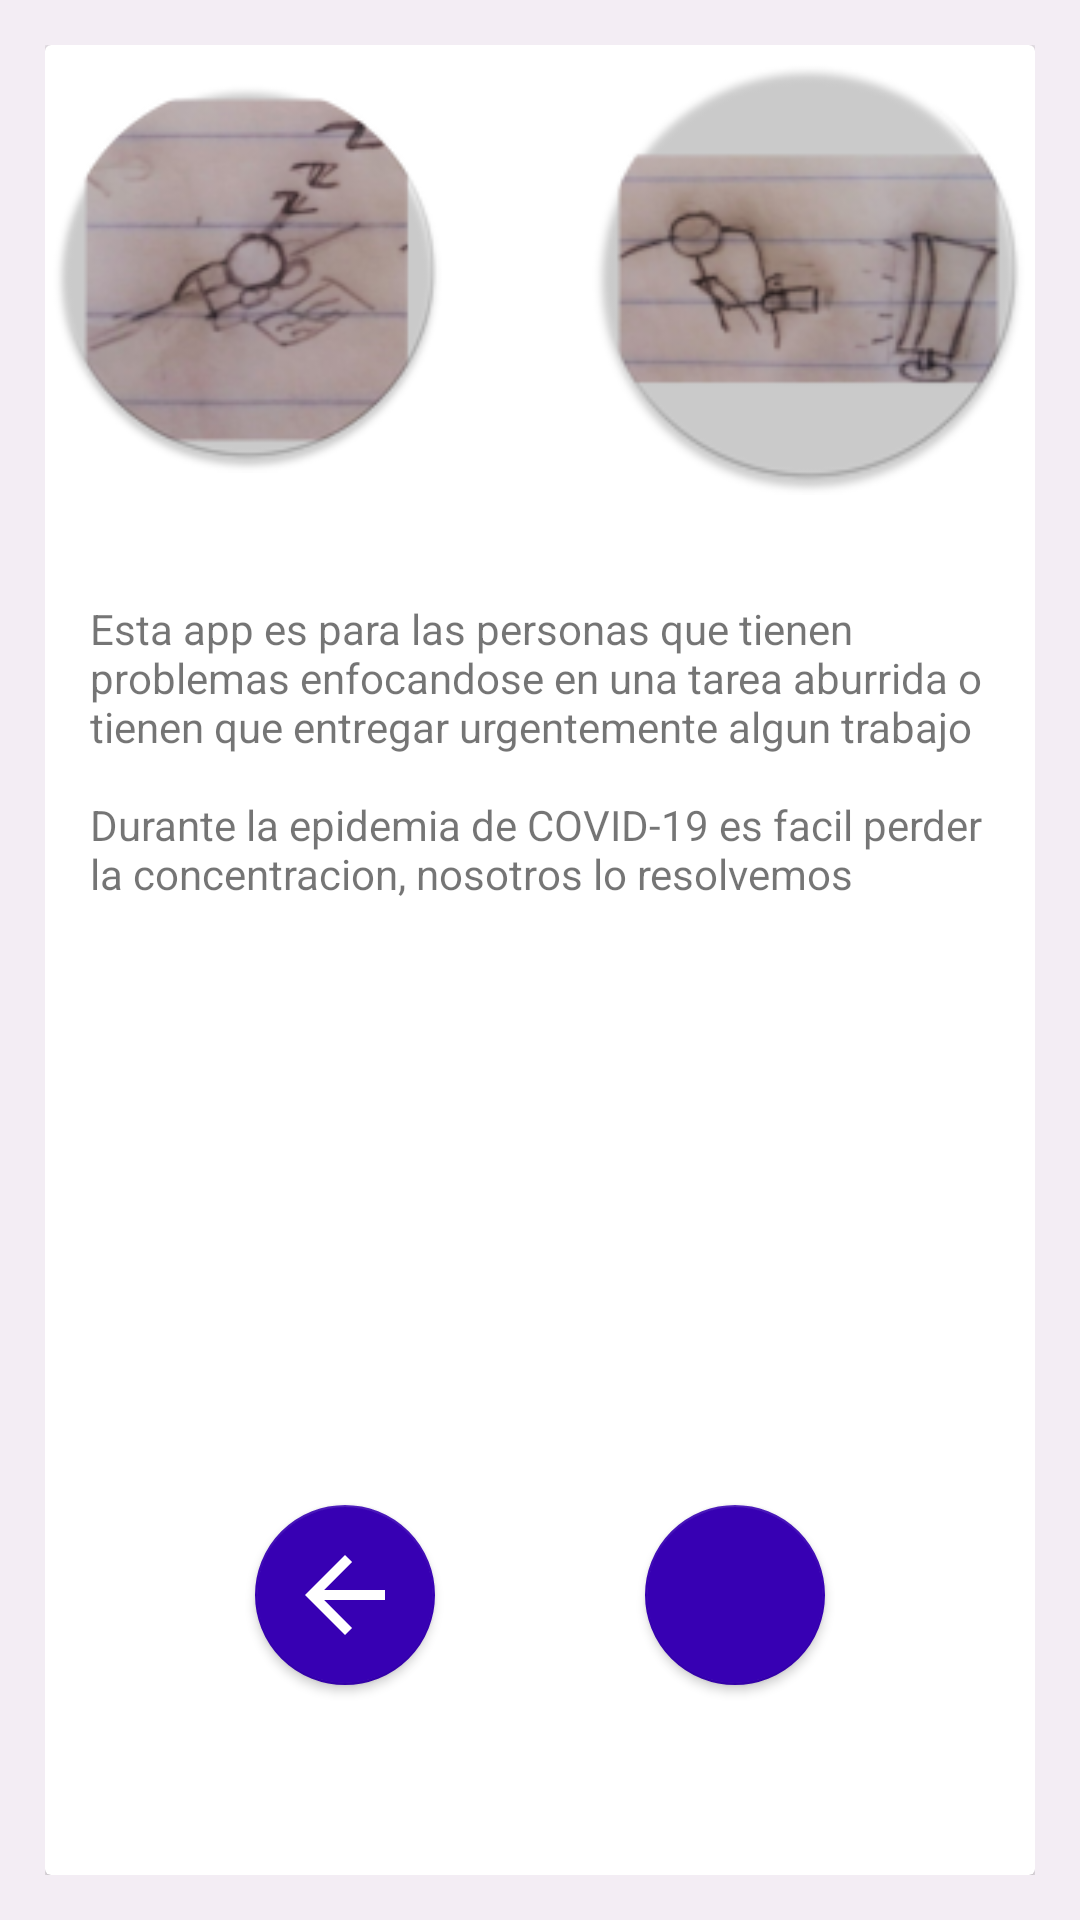

Point at icon controls on the screen. Image size 1080*1920, points as (x,y).
arrow back: (345,1595)
